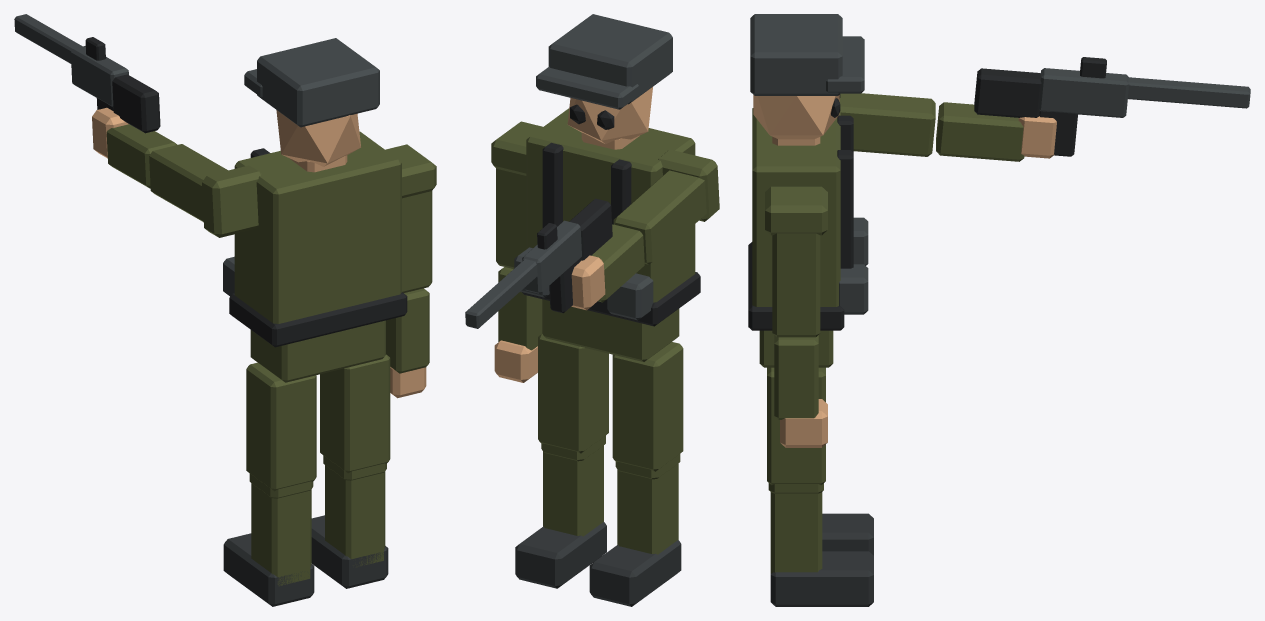
Rendered from soldier_infantry.glb.
3 views of the same model, side by side, from view 1: azimuth 30°, elevation 25°; view 2: azimuth 150°, elevation 25°; view 3: azimuth 270°, elevation 25° (orthographic). The views are drawn at different scales.
Parts seen in each view (by area): view 1: soldier_infantry; view 2: soldier_infantry; view 3: soldier_infantry.
Boxes of the visible parts, x1=… form: soldier_infantry: x1=14, y1=14, x2=436, y2=606; soldier_infantry: x1=465, y1=14, x2=719, y2=606; soldier_infantry: x1=748, y1=14, x2=1250, y2=606.
Size of the model in its own units: 0.345 by 0.8156 by 0.6801.
Materials: 1 (1 with a texture image).
